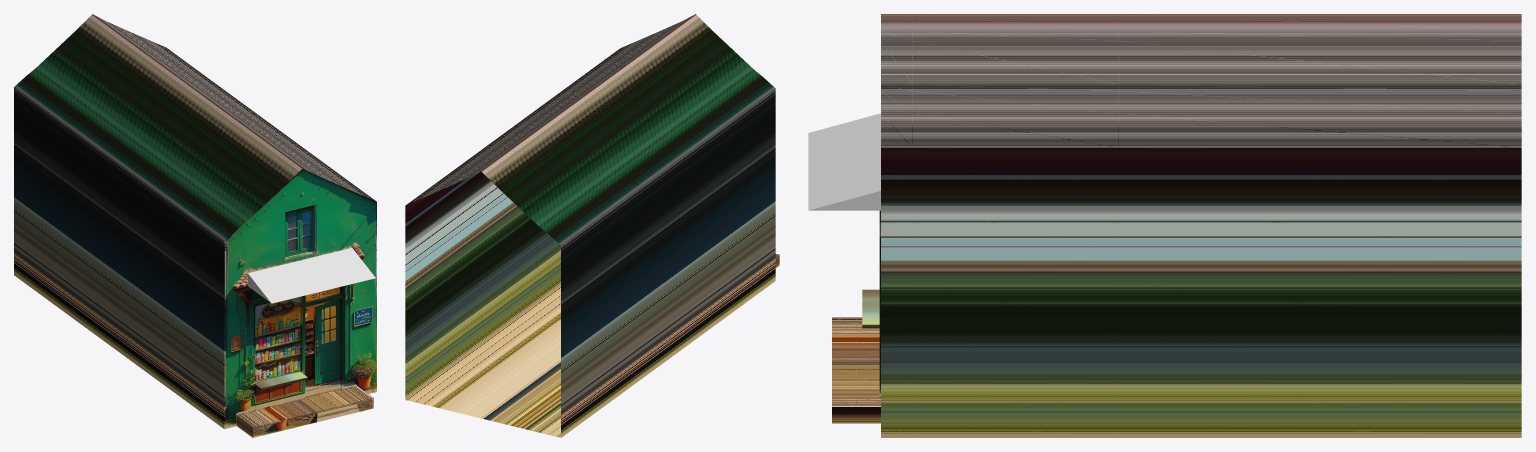
The model's file is building2greybox.glb.
3 renders of one model, left to right at view 1: azimuth 30°, elevation 25°; view 2: azimuth 150°, elevation 25°; view 3: azimuth 270°, elevation 25°, orthographic. The views are drawn at different scales.
Parts seen in each view (by area): view 1: Empty.001, Cube; view 2: Empty.001; view 3: Empty.001, Cube.
Part boxes in pixels (x1=…): Empty.001: x1=14, y1=14, x2=376, y2=437; Cube: x1=248, y1=248, x2=375, y2=303; Empty.001: x1=405, y1=14, x2=779, y2=437; Empty.001: x1=832, y1=14, x2=1521, y2=437; Cube: x1=808, y1=113, x2=880, y2=210.
Size of the model in its own units: 3.65 by 5.54 by 9.71.
Materials: 1 (1 with a texture image).
